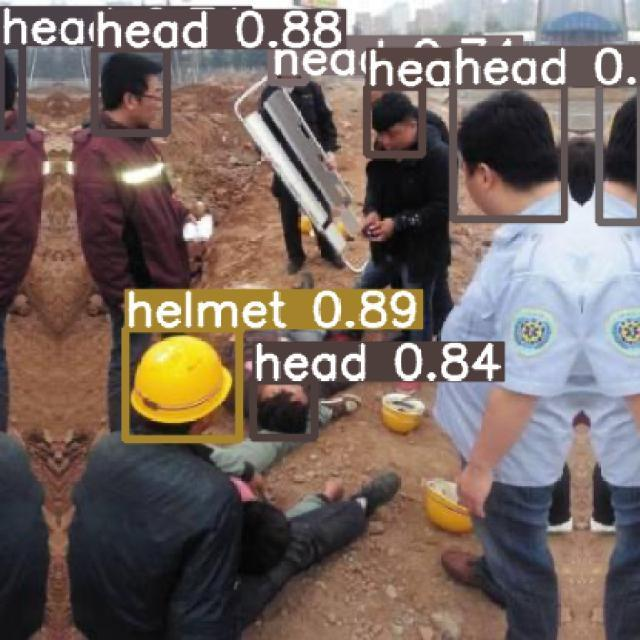helmet: (129, 335, 232, 424)
